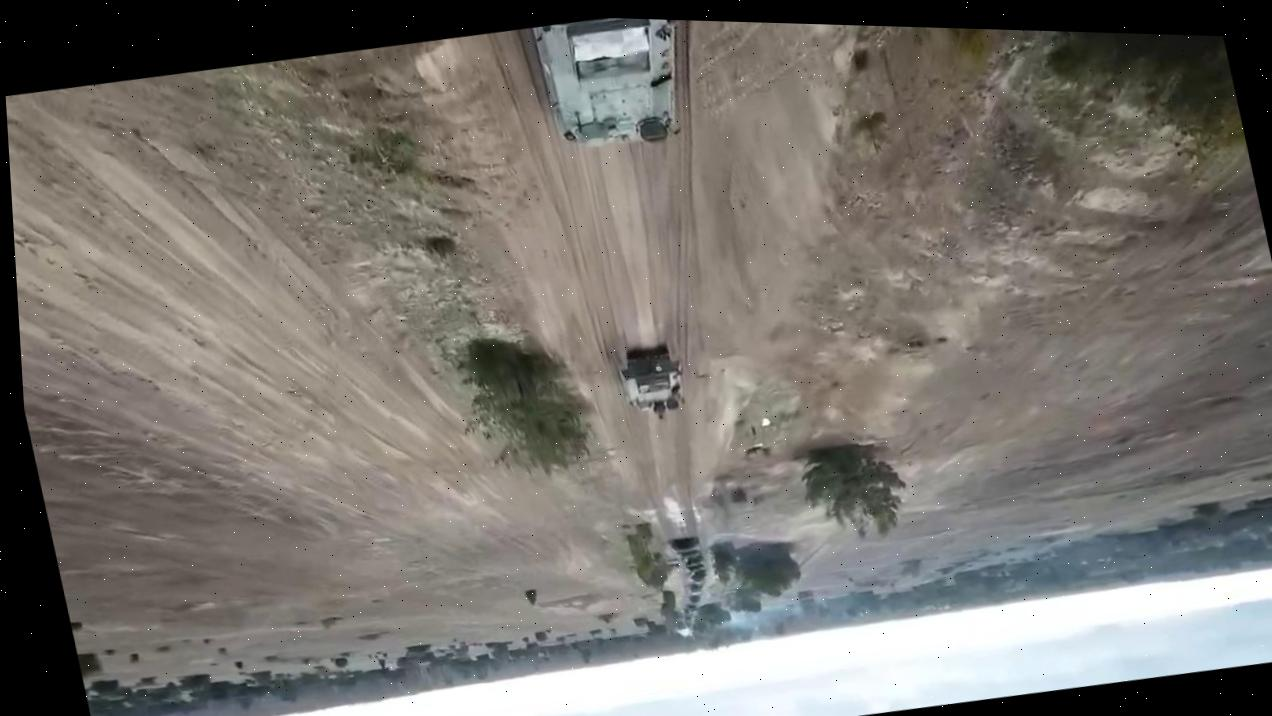tank: (529, 16, 703, 163), (614, 339, 693, 425), (663, 531, 703, 562)
